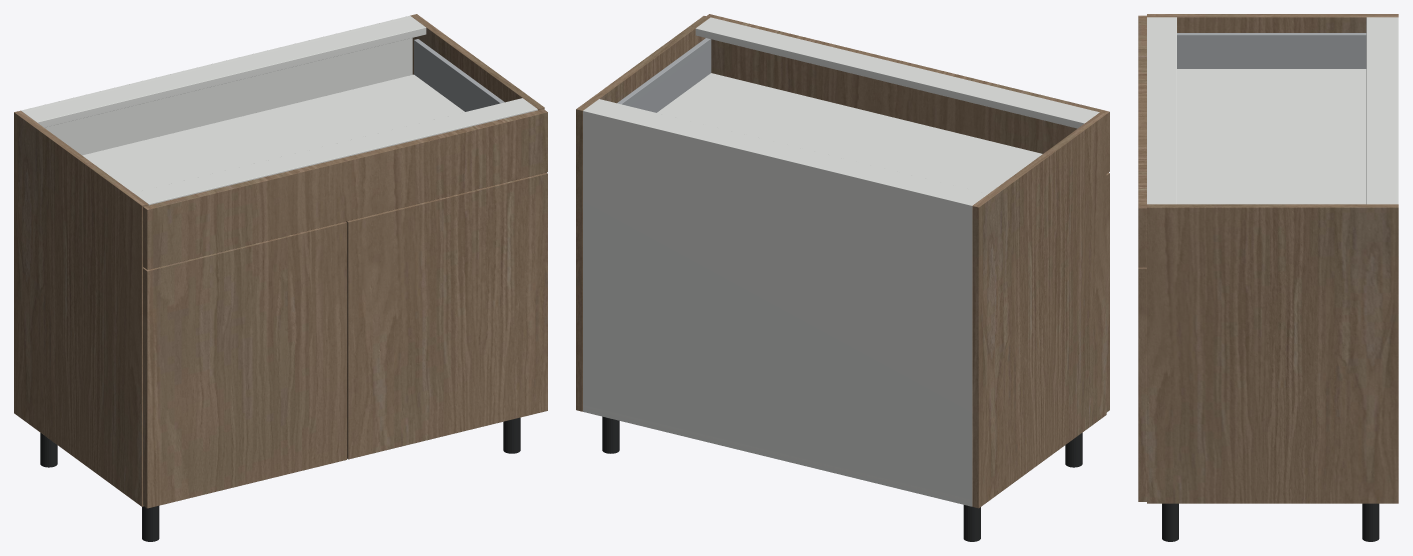
Rendered from oppein-pb-mnw-b42.glb.
3 renders of one model, left to right at view 1: azimuth 30°, elevation 25°; view 2: azimuth 150°, elevation 25°; view 3: azimuth 270°, elevation 25°, orthographic.
Parts seen in each view (by area): view 1: Door, Door.001, Cabinet side, Drawer front, Drawer floor, Cabinet back, Top support rail, Top support rail.001, Drawer side.001, Cabinet side.001; view 2: Cabinet back, Cabinet side, Drawer floor, Drawer front, Top support rail.001, Top support rail, Cabinet side.001, Drawer side.001, Cabinet bottom, Door, Adjustable foot, Adjustable foot.002; view 3: Cabinet side.001, Drawer floor, Drawer side, Top support rail.001, Top support rail, Cabinet side, Drawer front, Door.001, Cabinet back, Adjustable foot.002, Adjustable foot.003.
Boxes of the visible parts, <box> form: Door: <box>143,221,346,508</box>; Door.001: <box>346,172,547,459</box>; Cabinet side: <box>14,110,148,506</box>; Drawer front: <box>143,109,547,269</box>; Drawer floor: <box>82,74,464,192</box>; Cabinet back: <box>21,15,412,155</box>; Top support rail: <box>23,17,426,127</box>; Top support rail.001: <box>134,98,537,205</box>; Drawer side.001: <box>414,39,504,111</box>; Cabinet side.001: <box>410,14,544,110</box>; Cabinet back: <box>583,109,973,506</box>; Cabinet side: <box>972,112,1106,508</box>; Drawer floor: <box>657,73,1042,193</box>; Drawer front: <box>706,14,1109,173</box>; Top support rail.001: <box>695,17,1099,128</box>; Top support rail: <box>586,99,987,204</box>; Cabinet side.001: <box>576,16,710,411</box>; Drawer side.001: <box>617,38,711,112</box>; Cabinet bottom: <box>583,405,971,505</box>; Door: <box>1106,172,1109,412</box>; Adjustable foot: <box>963,505,980,541</box>; Adjustable foot.002: <box>602,416,619,453</box>; Cabinet side.001: <box>1147,204,1398,503</box>; Drawer floor: <box>1177,69,1366,204</box>; Drawer side: <box>1177,33,1366,68</box>; Top support rail.001: <box>1147,17,1176,204</box>; Top support rail: <box>1366,17,1393,204</box>; Cabinet side: <box>1147,14,1398,32</box>; Drawer front: <box>1138,15,1146,267</box>; Door.001: <box>1138,267,1146,501</box>; Cabinet back: <box>1393,17,1398,204</box>; Adjustable foot.002: <box>1362,503,1379,541</box>; Adjustable foot.003: <box>1162,503,1178,541</box>.
Bounding box in the file's own units: 1.07 × 0.8763 × 0.6064.
4 materials, 1 textured.
